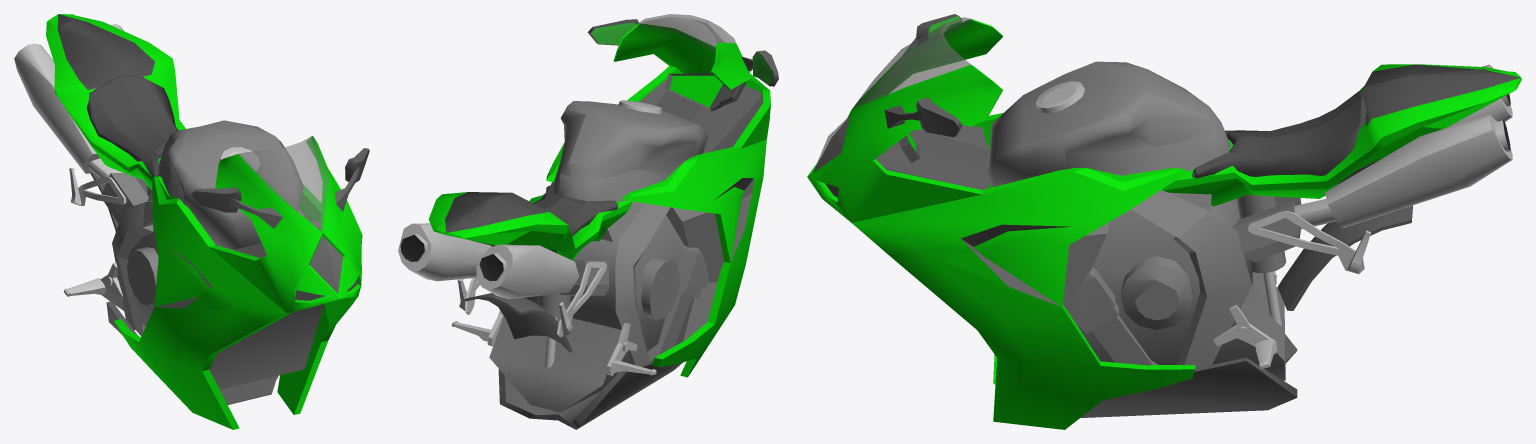
Rendered from bike_sport_body.fbx.
3 renders of one model, left to right at view 1: azimuth 30°, elevation 25°; view 2: azimuth 150°, elevation 25°; view 3: azimuth 270°, elevation 25°, orthographic. The views are drawn at different scales.
Parts seen in each view (by area): view 1: polySurface138; view 2: polySurface138; view 3: polySurface138.
Boxes of the visible parts, left/top/right/bottom form: polySurface138: left=14, top=14, right=369, bottom=429; polySurface138: left=398, top=14, right=778, bottom=429; polySurface138: left=807, top=14, right=1521, bottom=429.
Bounding box in the file's own units: 65.43 × 96.97 × 170.
